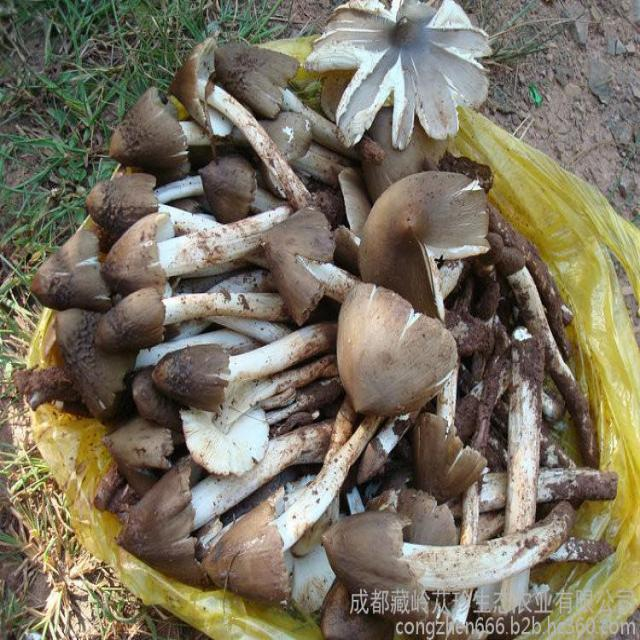Collybia albuminosa: (46, 32, 619, 597)
